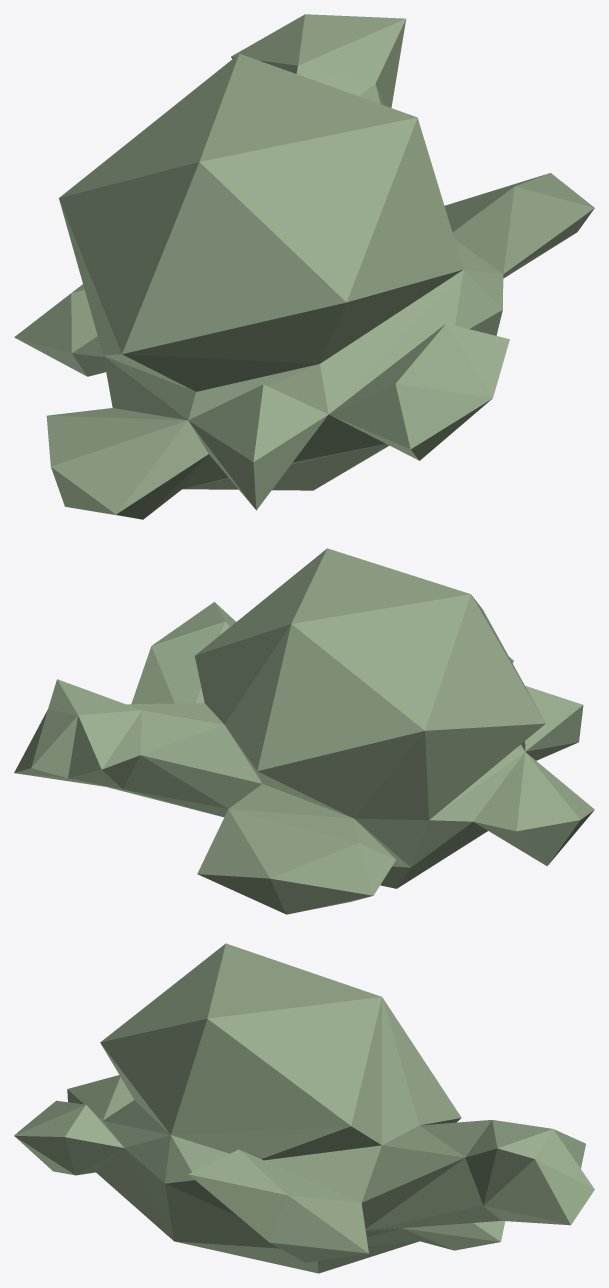
3 views of the same model, one above another, from view 1: azimuth 30°, elevation 25°; view 2: azimuth 150°, elevation 25°; view 3: azimuth 270°, elevation 25° (orthographic). The views are drawn at different scales.
Parts seen in each view (by area): view 1: part0; view 2: part0; view 3: part0.
Part boxes in pixels (x1=…): part0: x1=14, y1=14, x2=594, y2=519; part0: x1=14, y1=548, x2=594, y2=914; part0: x1=14, y1=943, x2=594, y2=1273.
Size of the model in its own units: 9.87 by 6.13 by 11.63.
